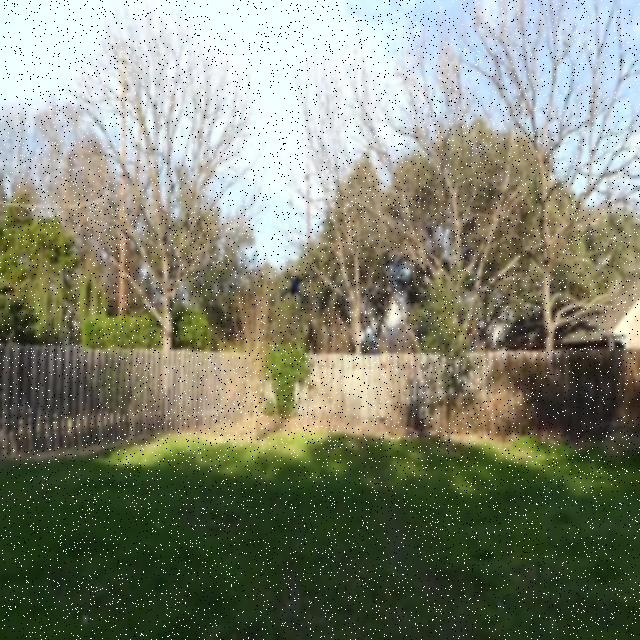UAV: (280, 271, 310, 303)
